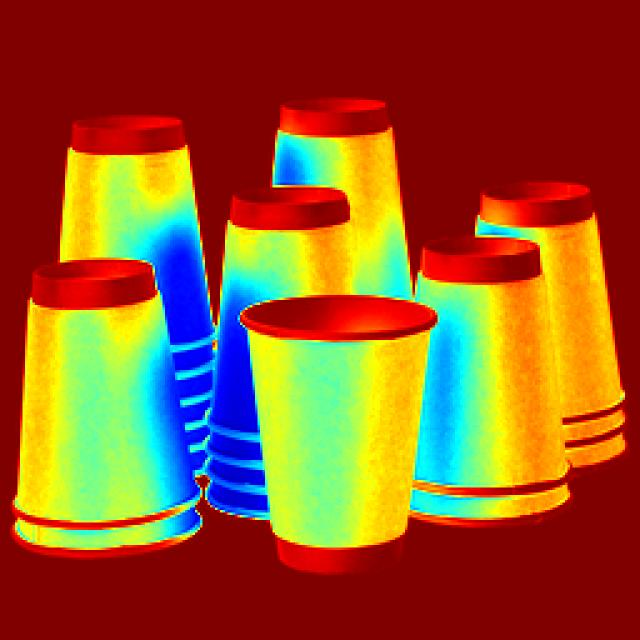Paper Cups: (224, 286, 433, 573), (416, 228, 575, 530), (484, 176, 632, 462), (37, 267, 177, 548), (279, 106, 414, 282), (66, 118, 183, 265), (235, 186, 325, 283)
